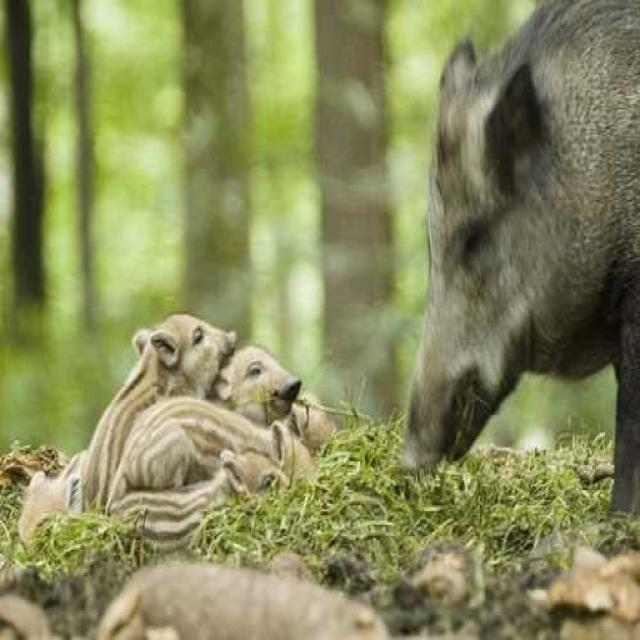pig: (415, 6, 640, 498), (88, 274, 263, 464), (181, 334, 341, 473)
